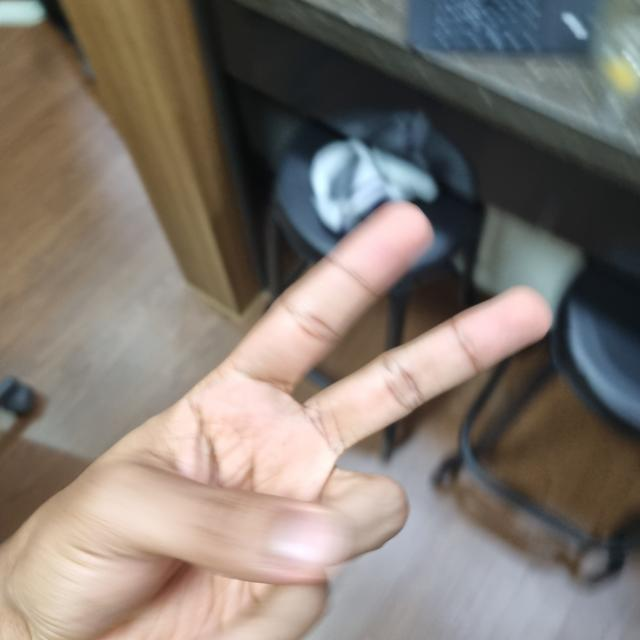Scissors: (8, 206, 545, 639)
